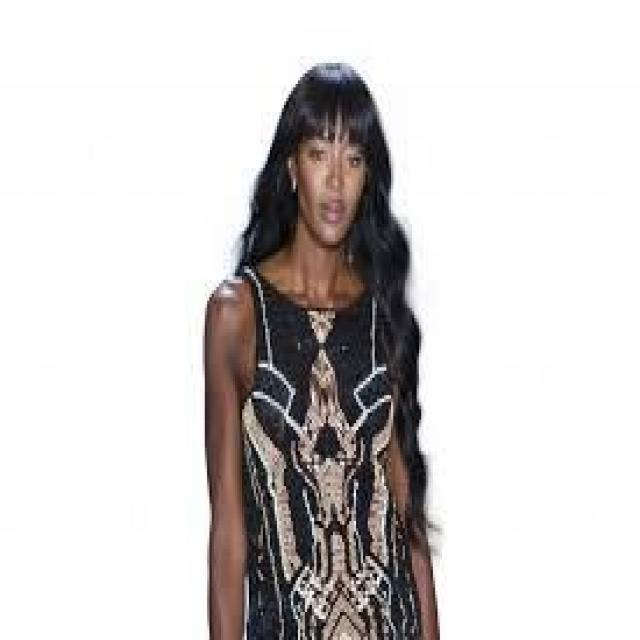person: (188, 59, 472, 636)
